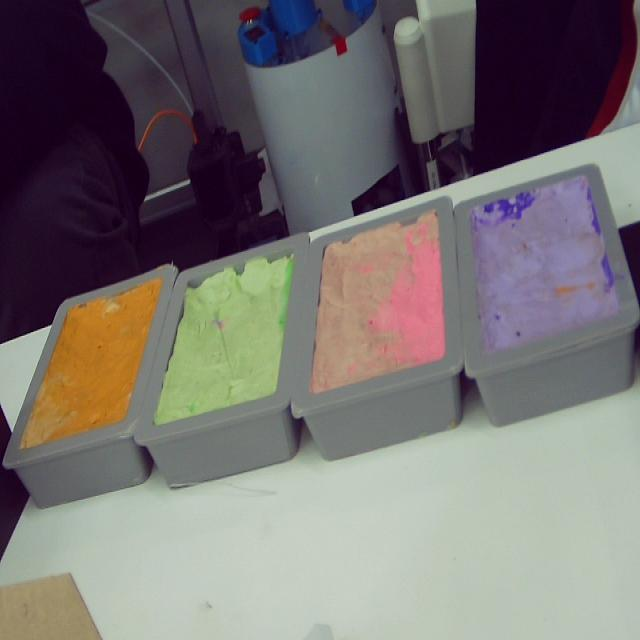block: (454, 162, 640, 426), (289, 194, 466, 460), (127, 236, 312, 487), (0, 264, 177, 506)
